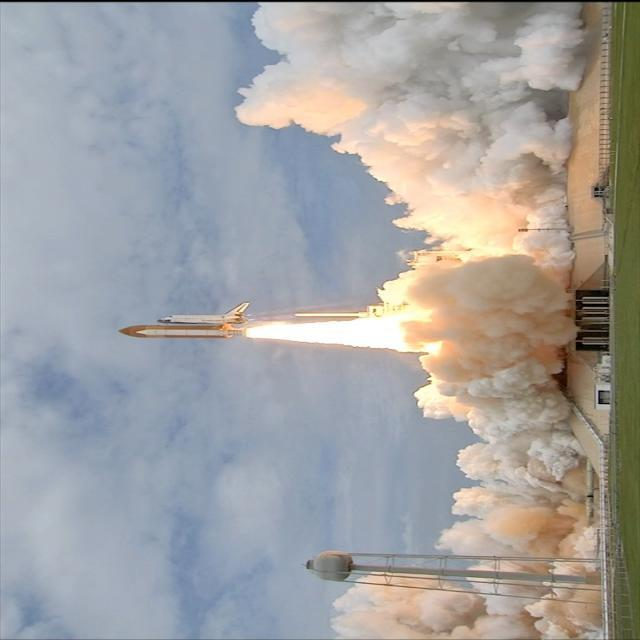Missile: (130, 328, 240, 337)
